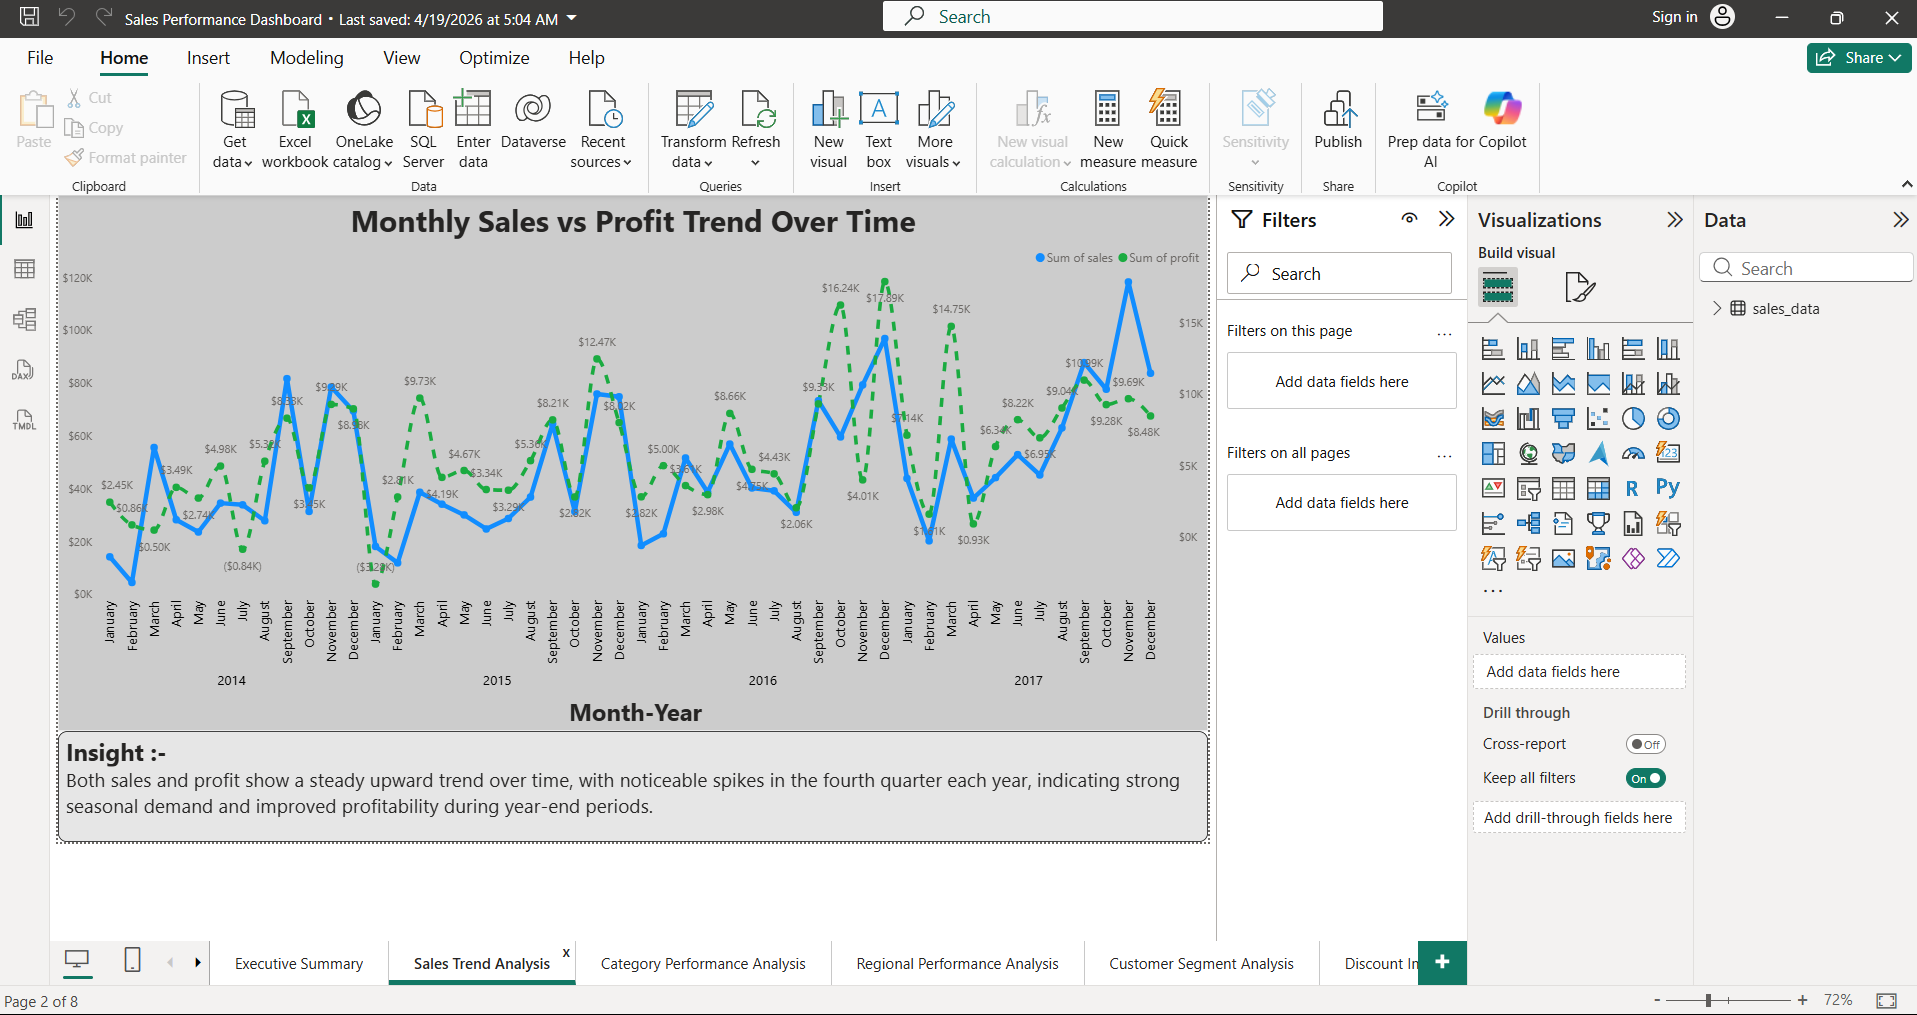

What the dashboard file says about the page in this screenshot:
{"tool":"powerbi","page":{"name":"Sales Trend Analysis","canvas":[1280,720],"ordinal":1},"visuals":[{"type":"lineChart","title":"Monthly Sales vs Profit Trend Over Time","fields":{"Y":["Sum(sales_data.sales)"],"Y2":["Sum(sales_data.profit)"],"Category":["sales_data.order_date.Variation.Date Hierarchy.Year","sales_data.order_date.Variation.Date Hierarchy.Month"]},"box":[0,0,1280,596.9],"z":0},{"type":"textbox","title":"Insight :-","box":[0,596.9,1280.3,123.5],"z":1000}]}

Visuals, with their boxes on the page's 1280x720 design canvas (x1, y1, x2, y2). These are canvas units, not pixel positions in the 1917x1015 screenshot, which may show the page scaled, cropped or inside an application window:
"Monthly Sales vs Profit Trend Over Time" lineChart: [0, 0, 1280, 597]
"Insight :-" textbox: [0, 597, 1280, 720]
